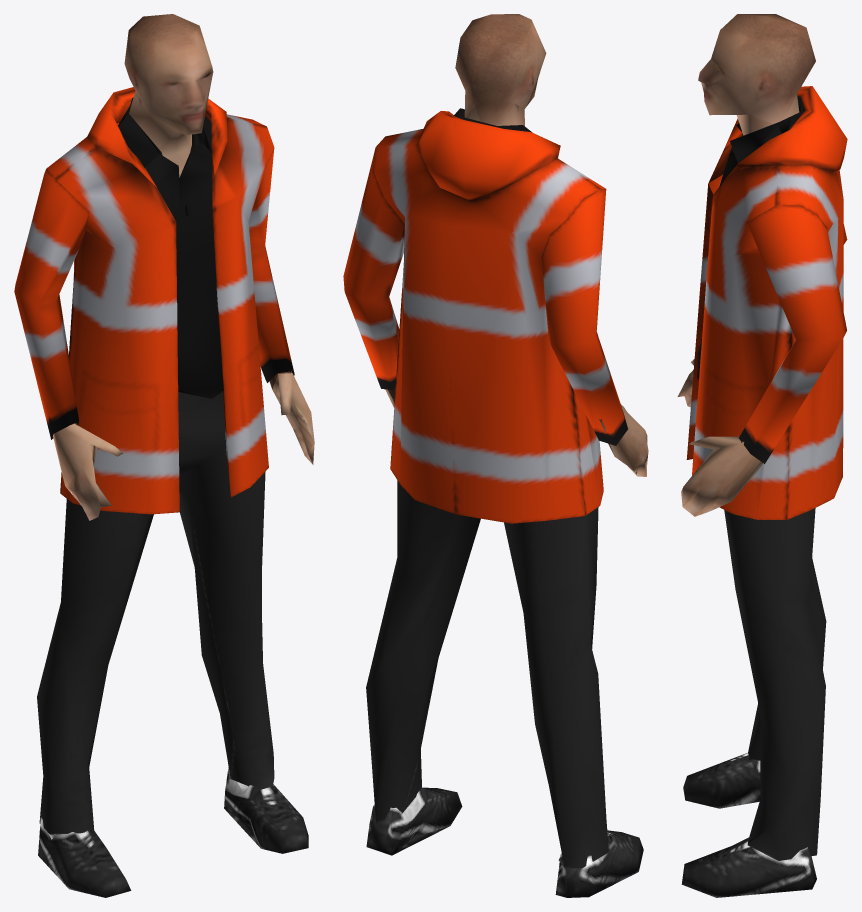
File: LOW_Marshall01_TW.fbx
3 views of the same model, side by side, from view 1: azimuth 30°, elevation 25°; view 2: azimuth 150°, elevation 25°; view 3: azimuth 270°, elevation 25° (orthographic).
Parts seen in each view (by area): view 1: LOW_Marshall01_TW; view 2: LOW_Marshall01_TW; view 3: LOW_Marshall01_TW.
Part boxes in pixels (bbox=[...]): LOW_Marshall01_TW: bbox=[14, 14, 314, 897]; LOW_Marshall01_TW: bbox=[343, 14, 648, 897]; LOW_Marshall01_TW: bbox=[677, 14, 847, 897].
Bounding box in the file's own units: 55.86 × 179 × 33.37.
